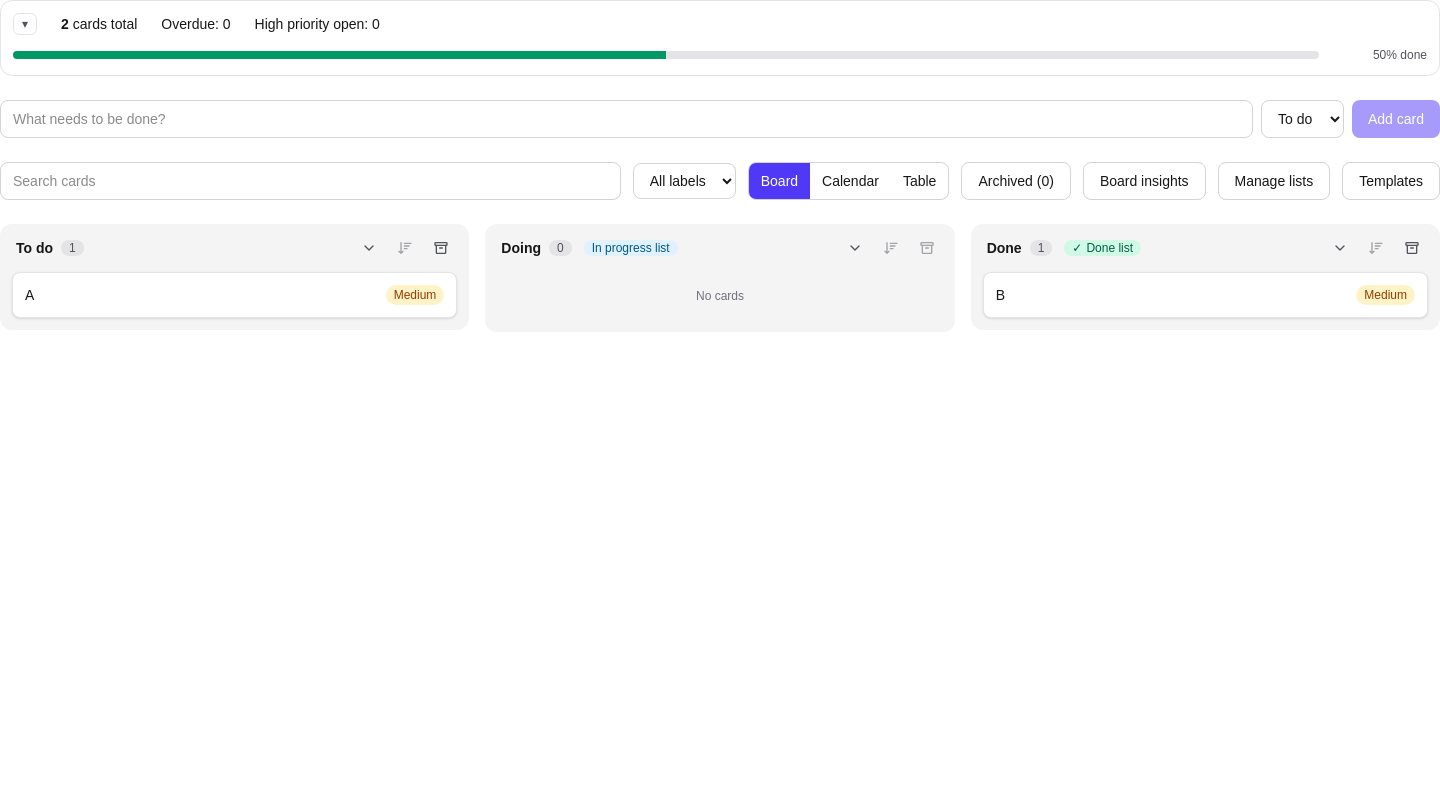
collapsing lists in <Board /> › counts a card moved into a collapsed list and shows it when expanded
Click the button named "Collapse Doing": (855, 248) top-left (839, 236), bottom-right (871, 260)
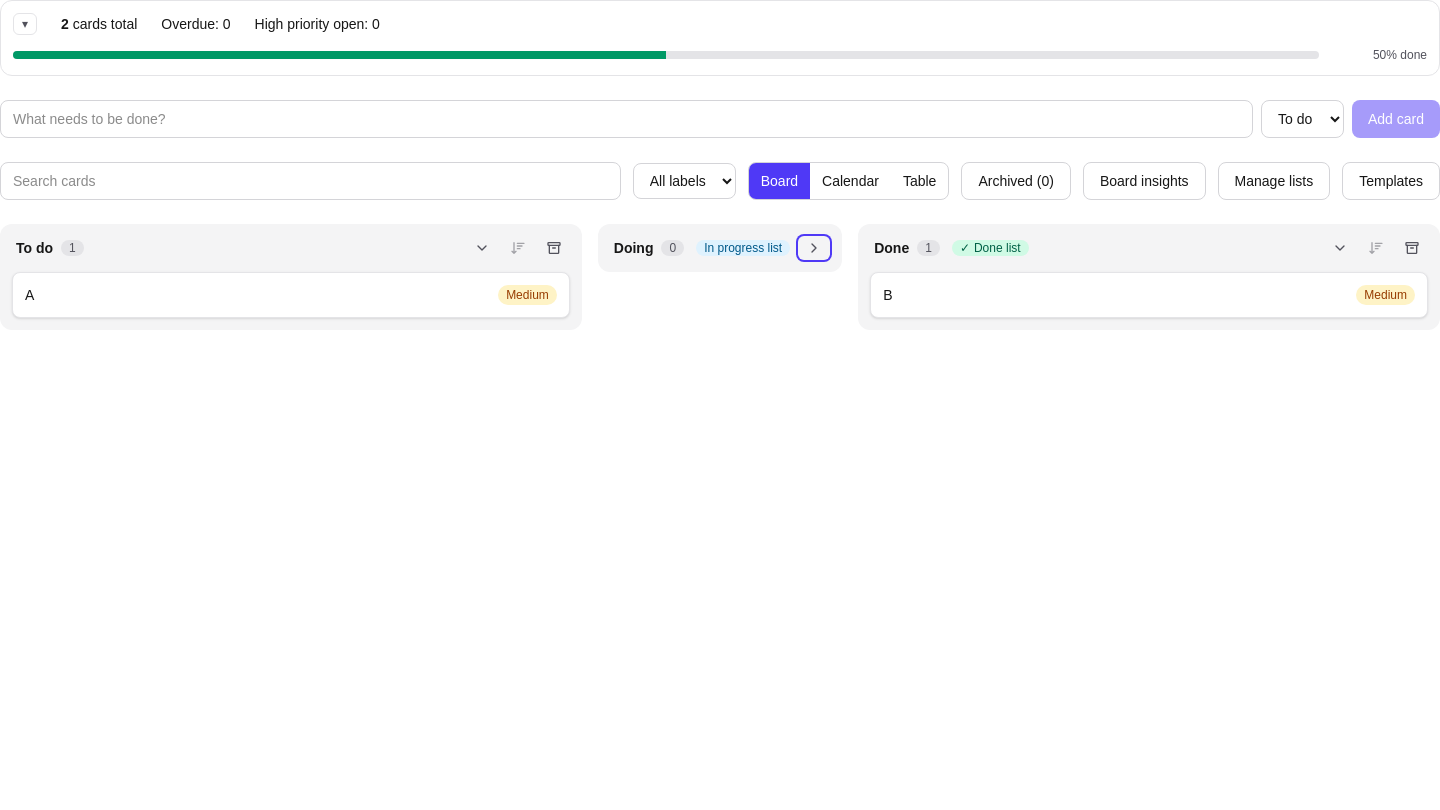
Click the button "A": (30, 295) top-left (25, 285), bottom-right (34, 305)
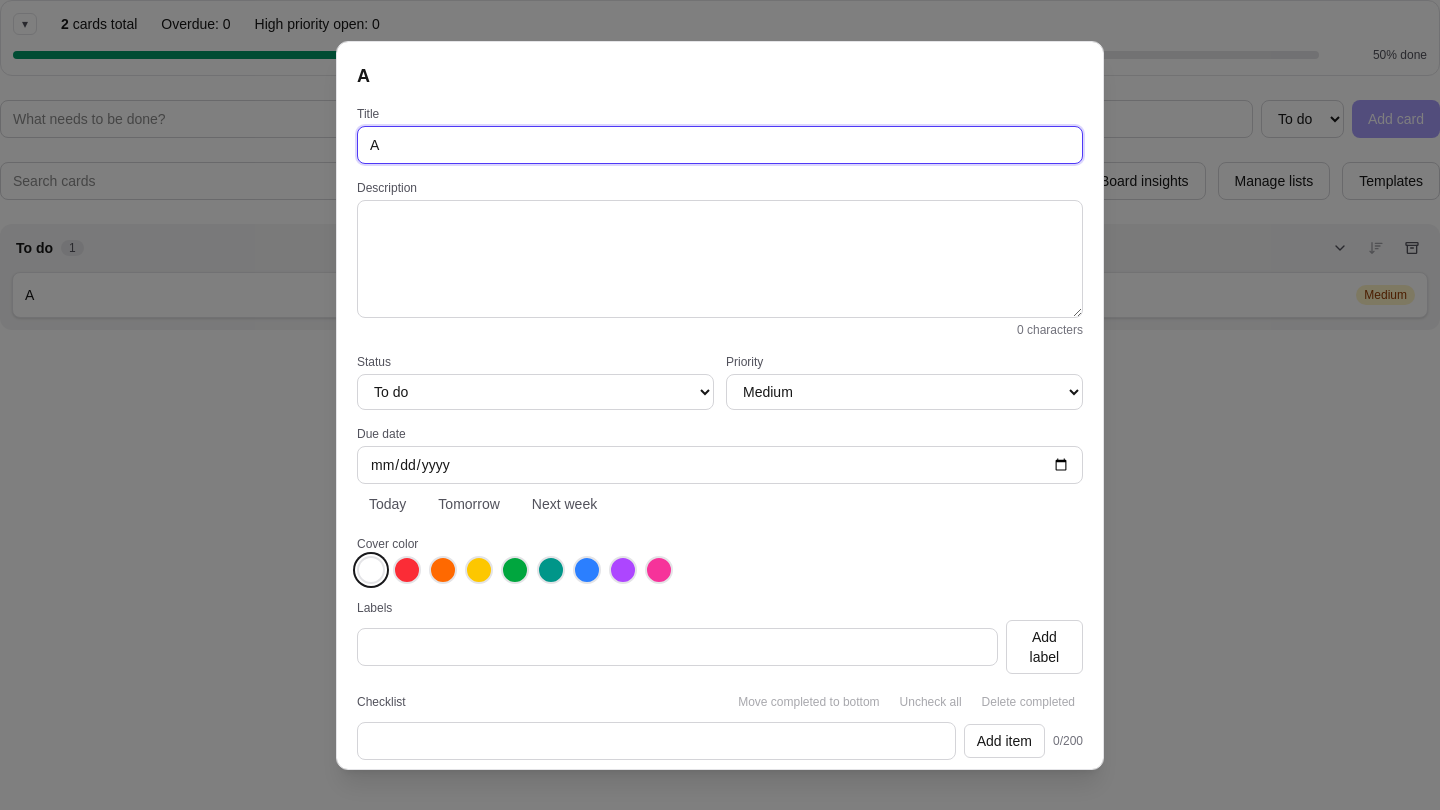
Select "Doing" in the dropdown labelled "Status": (536, 392) top-left (357, 374), bottom-right (714, 410)
(page scrolled)
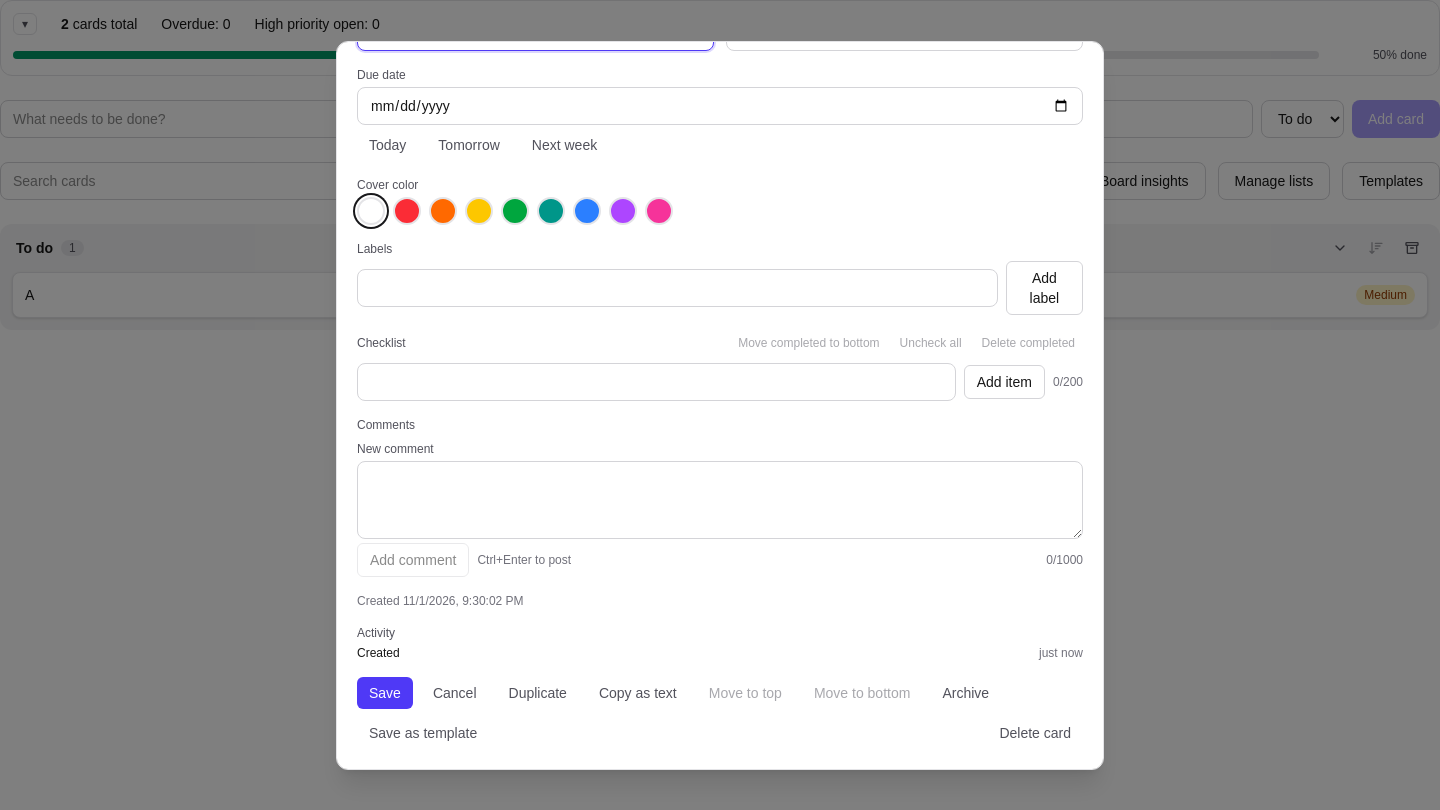
Click the button "Save": (385, 692) top-left (357, 676), bottom-right (413, 708)
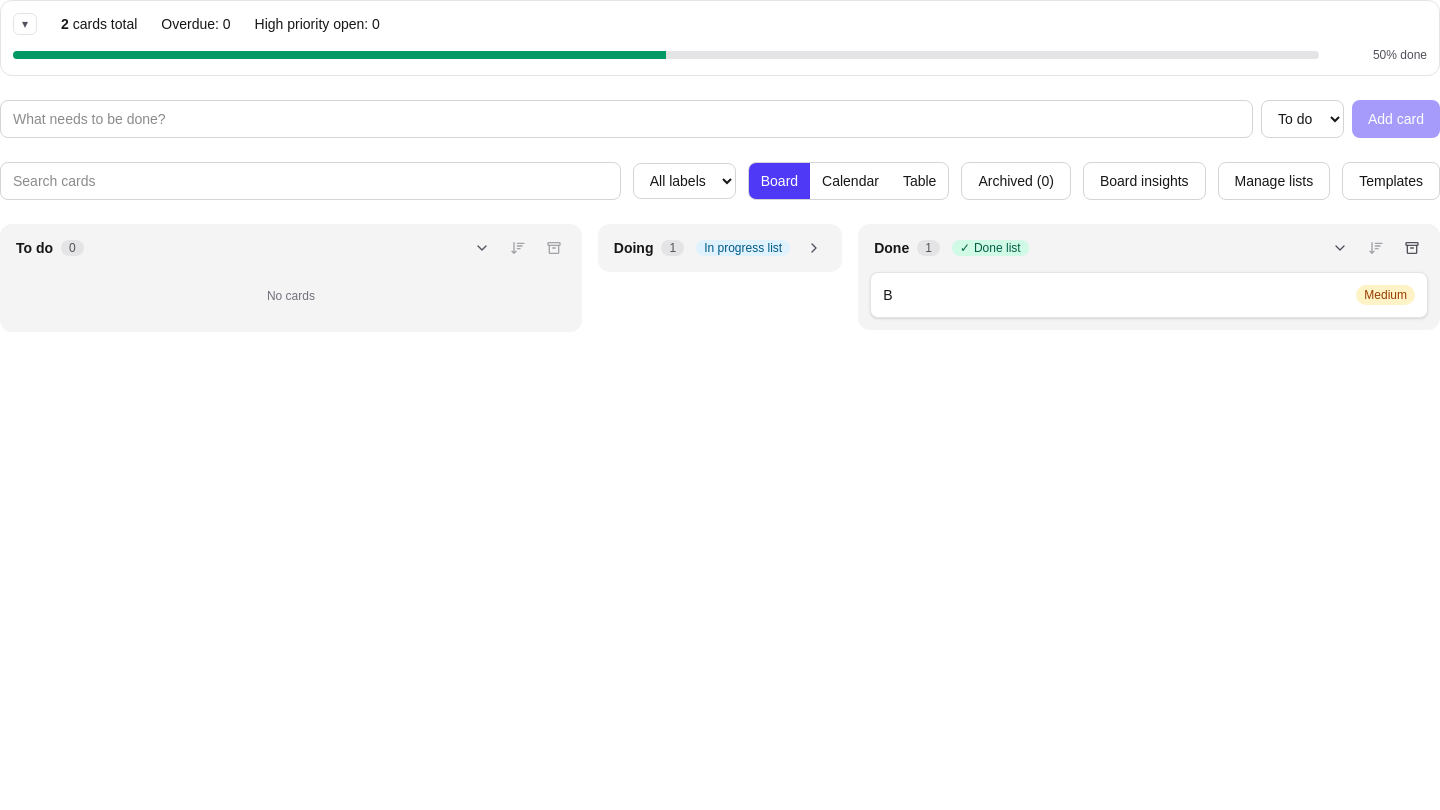
Expected: the heading named "Doing1" is shown, top-left (610, 238), bottom-right (688, 258)
Click the button named "Expand Doing": (814, 248) top-left (798, 236), bottom-right (830, 260)
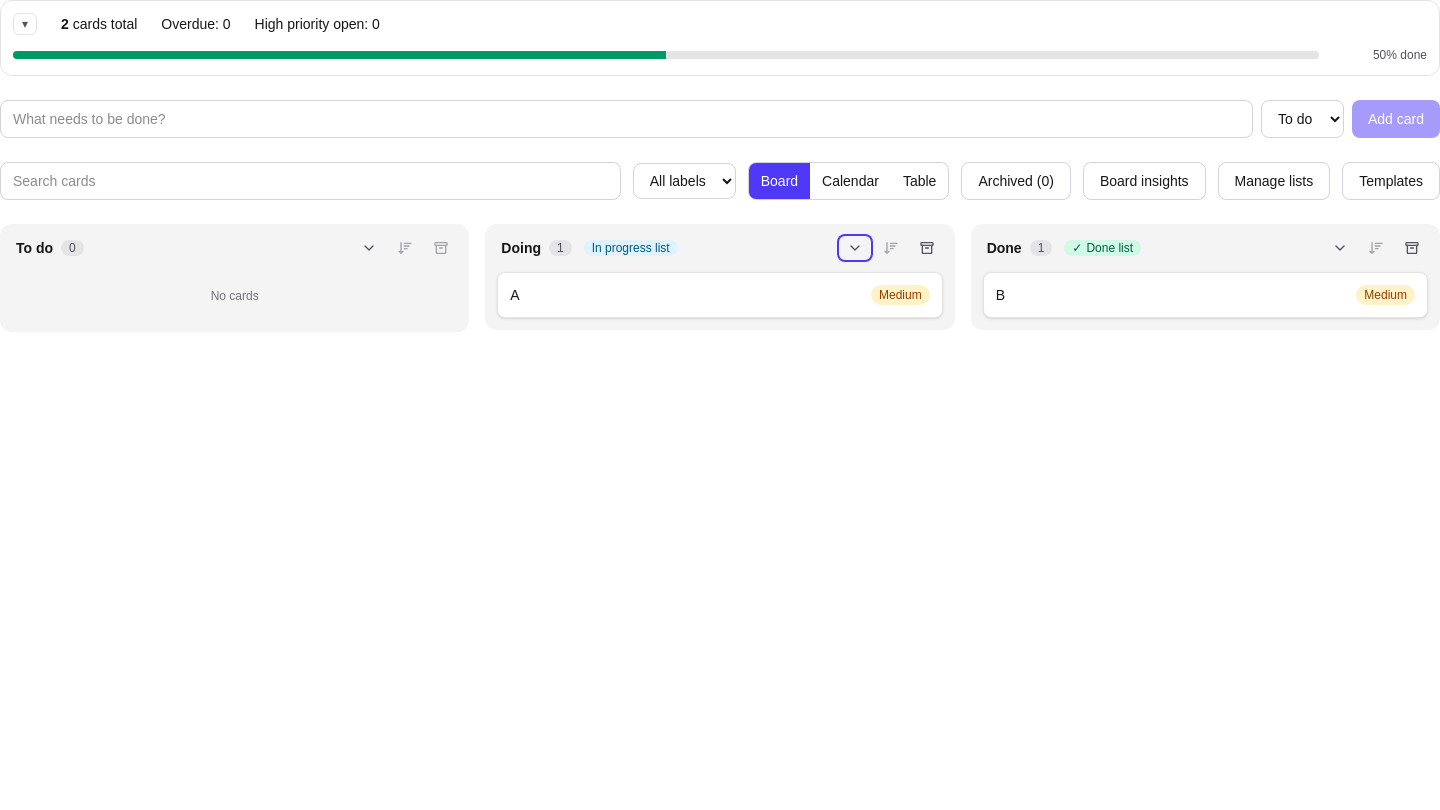
Expected: the button "A" is shown, top-left (510, 285), bottom-right (520, 305)
